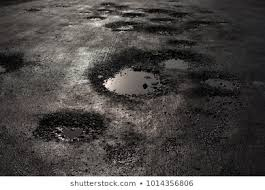pothole: (97, 48, 260, 101), (87, 2, 229, 36), (36, 109, 102, 143), (186, 108, 232, 147), (107, 131, 143, 168), (1, 50, 43, 77), (26, 2, 72, 12), (167, 39, 198, 48), (160, 136, 179, 150)
